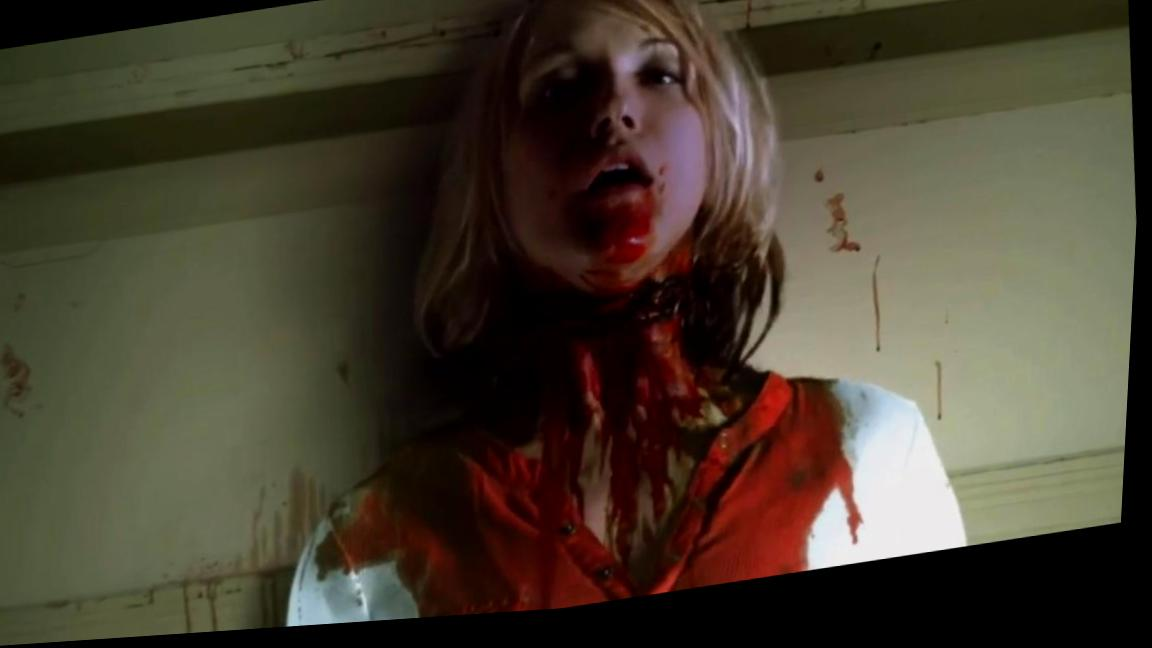Fire: (294, 119, 973, 631), (252, 470, 334, 589), (694, 0, 834, 38), (0, 342, 34, 418), (827, 202, 865, 265), (186, 583, 223, 637), (874, 265, 888, 365), (939, 373, 950, 433)
